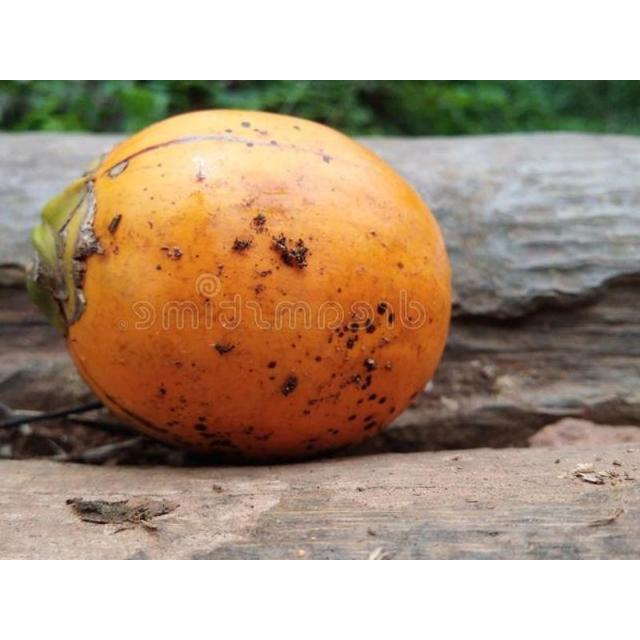good: (25, 109, 454, 466)
